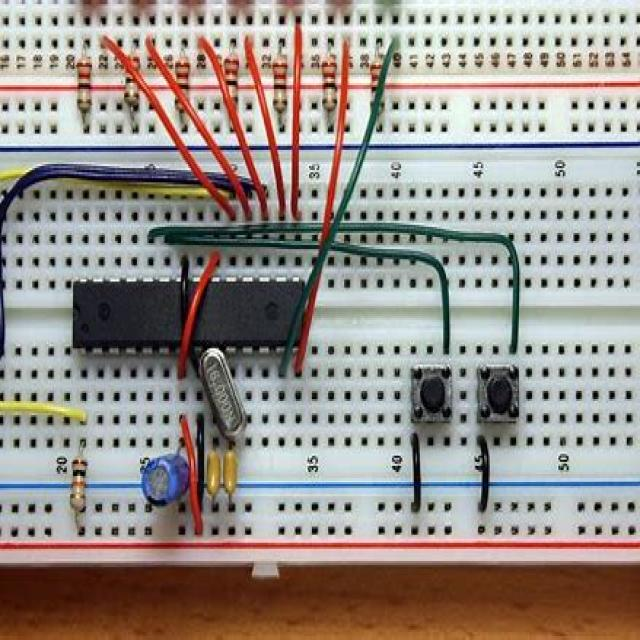Capacitor Electrolitico: (173, 53, 193, 115), (76, 52, 94, 111), (124, 50, 141, 111), (71, 454, 88, 510), (322, 52, 338, 111), (272, 52, 287, 114), (224, 52, 239, 113), (371, 62, 383, 115)
